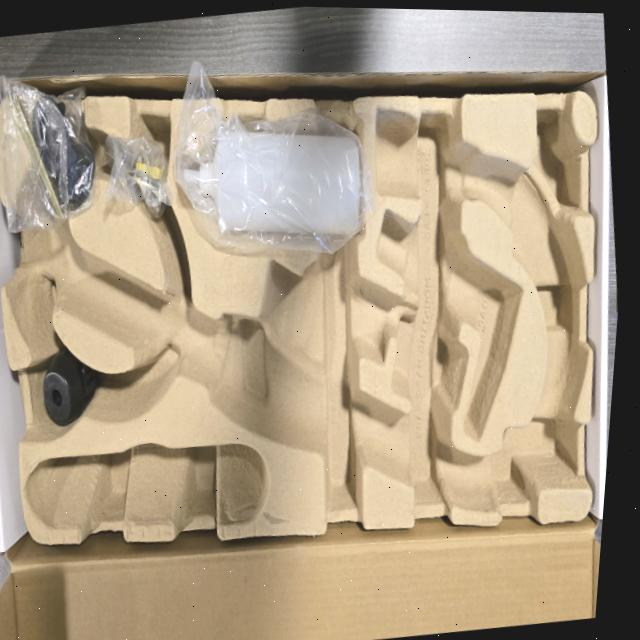1m: (1, 107, 591, 508)
2m: (376, 207, 522, 438)
3: (174, 124, 360, 237)
4m: (23, 445, 264, 530)
5: (40, 351, 92, 424)
6: (104, 135, 167, 223)
7: (0, 74, 97, 242)
